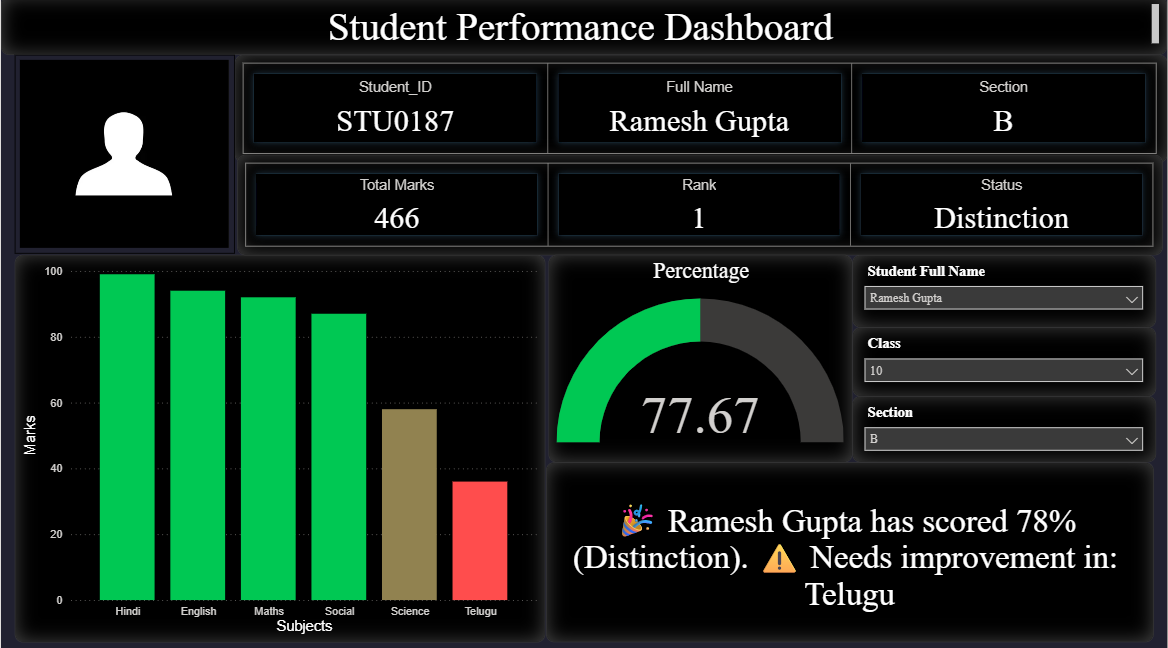

The page's visual inventory and layout, read from the dashboard file:
{"tool":"powerbi","page":{"name":"Page 1","canvas":[1280,720],"ordinal":0},"visuals":[{"type":"cardVisual","fields":{"Data":["Min(students_data.Student_ID)","Min(students_data.Student Full Name)","Min(students_data.Section)"]},"box":[256.2,65,1023.8,118.8],"z":0},{"type":"slicer","fields":{"Values":["students_data.Student Full Name"]},"box":[934.1,283.7,333.3,79.7],"z":1000},{"type":"clusteredColumnChart","fields":{"Y":["Sum(students_data.Marks)"],"Category":["students_data.Subjects"]},"box":[15.7,283.5,582.7,425.9],"z":2000},{"type":"textbox","box":[0,0,1280.3,64.5],"z":3000},{"type":"slicer","fields":{"Values":["students_data.Class"]},"box":[934.1,363.4,333.3,75.6],"z":4000},{"type":"image","box":[15.1,64.5,241.5,218.2],"z":5000},{"type":"cardVisual","fields":{"Data":["Sum(students_data.Marks)","students_data.Rank","students_data.final_Status"]},"box":[260,173.8,1016.2,110],"z":6000},{"type":"gauge","fields":{"Y":["students_data.Percentage"]},"box":[601,284,333.4,227.8],"z":7000},{"type":"card","fields":{"Values":["students_data.Final Report Message"]},"box":[598.3,511.8,666.9,197.6],"z":8000},{"type":"slicer","fields":{"Values":["students_data.Section"]},"box":[934.1,439,333.3,73.2],"z":9000}]}

Visuals, with their boxes in screenshot pixels (x1, y1, x2, y2), scaled from the page's 1280x720 canvas onto the 1168x648 screenshot:
cardVisual - Min(students_data.Student_ID) x Min(students_data.Student Full Name): {"left": 234, "top": 58, "right": 1167, "bottom": 165}
slicer - students_data.Student Full Name: {"left": 852, "top": 255, "right": 1157, "bottom": 327}
clusteredColumnChart - Sum(students_data.Marks) x students_data.Subjects: {"left": 14, "top": 255, "right": 546, "bottom": 638}
textbox: {"left": 0, "top": 0, "right": 1167, "bottom": 58}
slicer - students_data.Class: {"left": 852, "top": 327, "right": 1157, "bottom": 395}
image: {"left": 14, "top": 58, "right": 234, "bottom": 254}
cardVisual - Sum(students_data.Marks) x students_data.Rank: {"left": 237, "top": 156, "right": 1165, "bottom": 255}
gauge - students_data.Percentage: {"left": 548, "top": 256, "right": 853, "bottom": 461}
card - students_data.Final Report Message: {"left": 546, "top": 461, "right": 1154, "bottom": 638}
slicer - students_data.Section: {"left": 852, "top": 395, "right": 1157, "bottom": 461}
